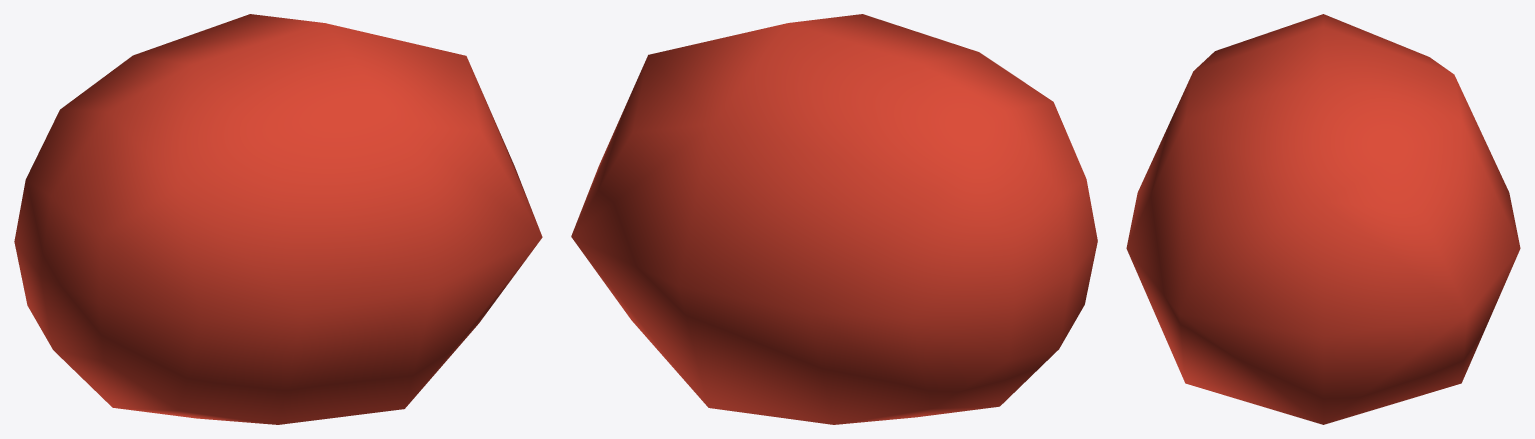
File: bandanadee_mano_der.obj
3 views of the same model, side by side, from view 1: azimuth 30°, elevation 25°; view 2: azimuth 150°, elevation 25°; view 3: azimuth 270°, elevation 25° (orthographic). The views are drawn at different scales.
Bounding box in the file's own units: 0.4533 × 0.3386 × 0.3564.
